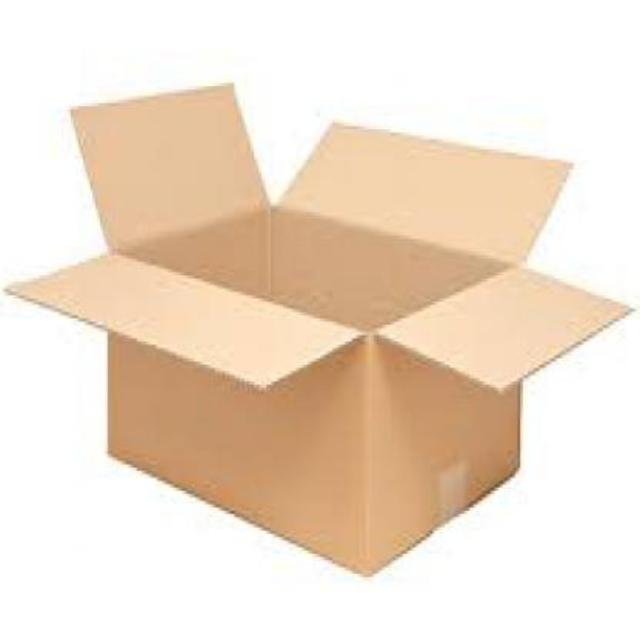cardboard_box: (1, 75, 636, 575)
